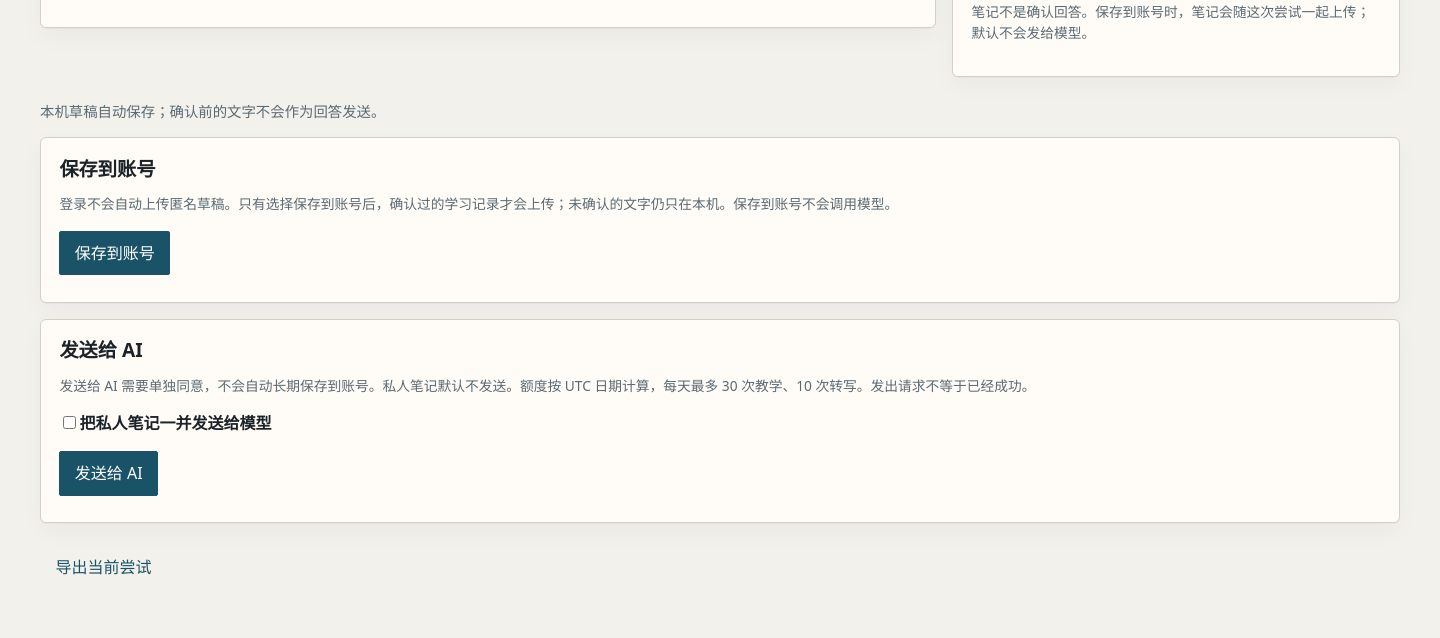
429 is shown as quota, not as a learning-step judgment
(page scrolled)
Click the button "发送给 AI": {"x": 109, "y": 474} x1=59 y1=451 x2=158 y2=496
(page scrolled)
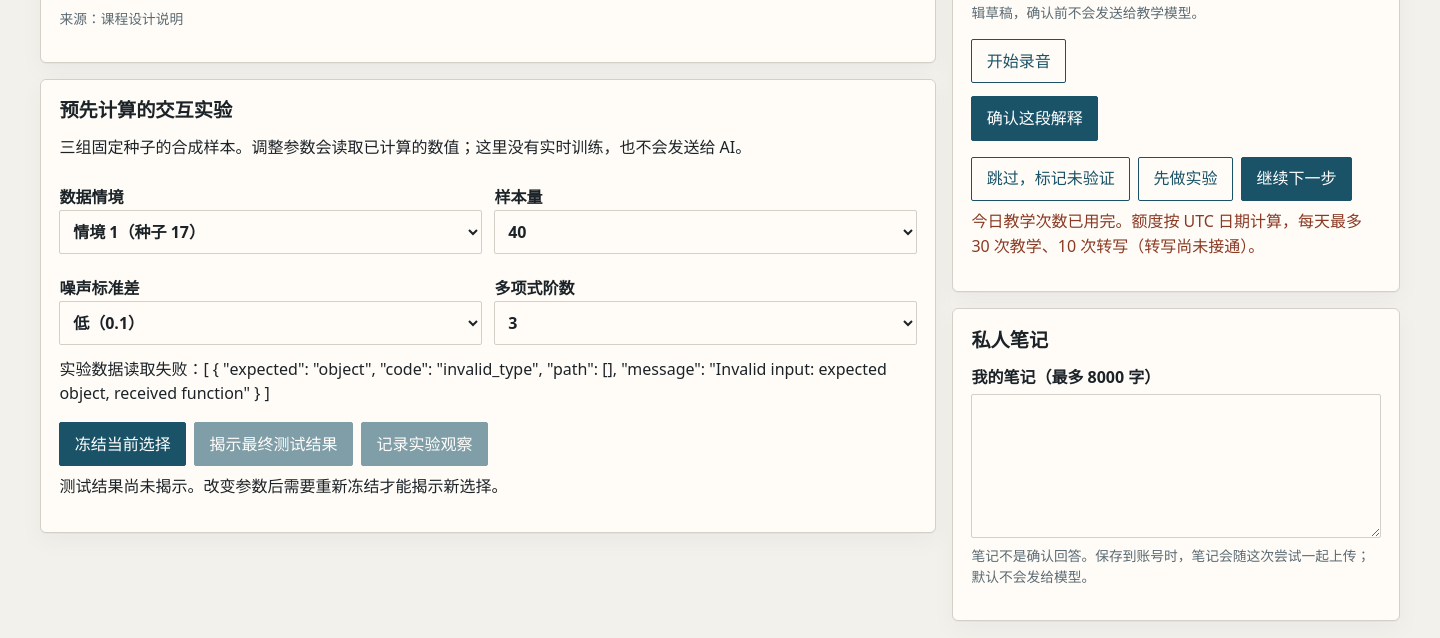
Result: the text "今日教学次数已用完。额度按 UTC 日期计算，每天最多 30 次教学、10 次转写（转写尚未接通）。" is shown at x1=971 y1=209 x2=1381 y2=259
